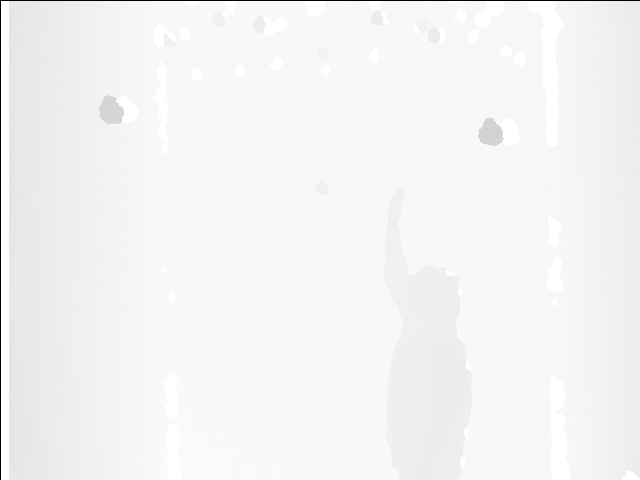hand: (382, 185, 409, 220)
